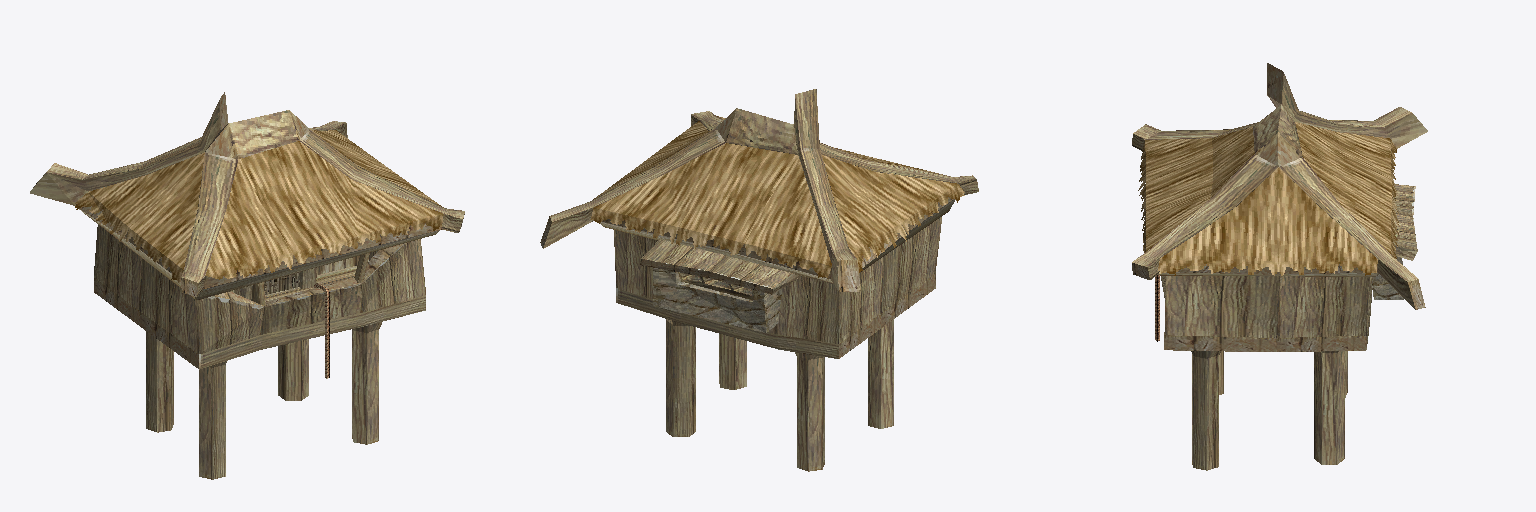
3 renders of one model, left to right at view 1: azimuth 30°, elevation 25°; view 2: azimuth 150°, elevation 25°; view 3: azimuth 270°, elevation 25°, orthographic.
Parts seen in each view (by area): view 1: Node 0; view 2: Node 0; view 3: Node 0.
Boxes of the visible parts, x1,y1,x2,y2 form: Node 0: [30, 92, 464, 479]; Node 0: [540, 89, 978, 471]; Node 0: [1132, 63, 1427, 470].
Size of the model in its own units: 12.68 by 13.11 by 10.2.
5 materials, 5 textured.